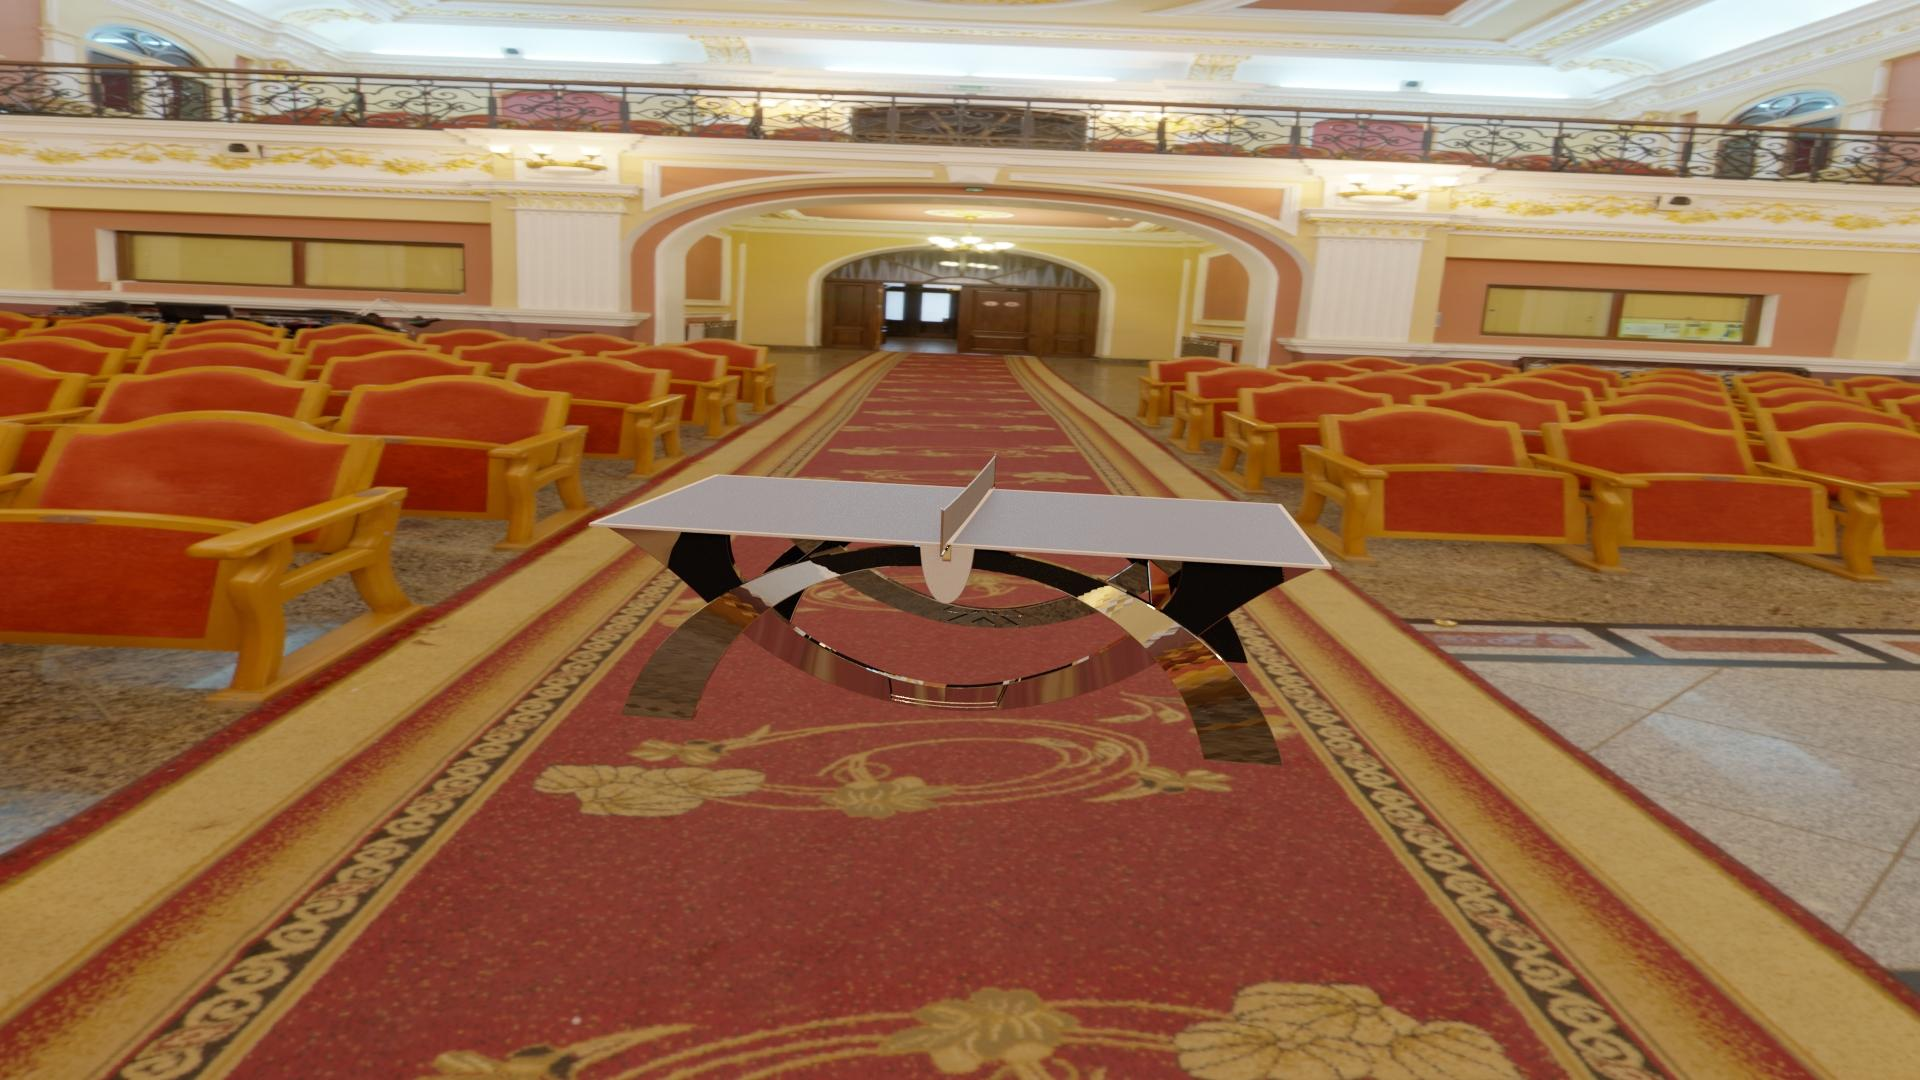table: (596, 475, 1325, 566)
